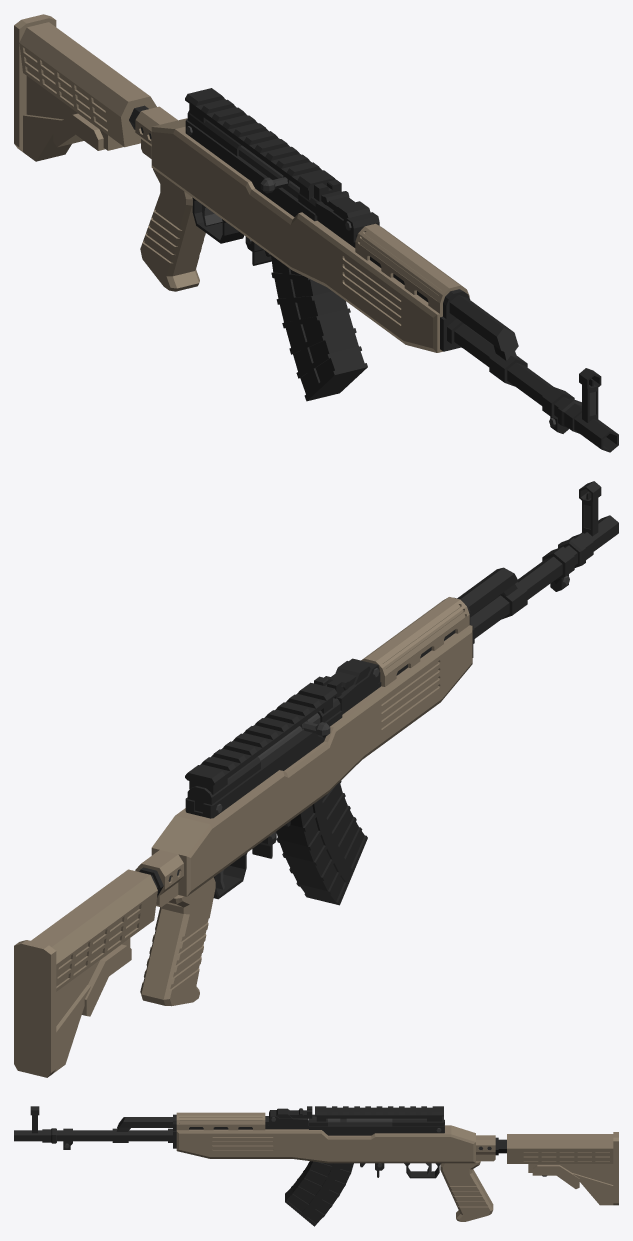
The model's file is DMR_D.fbx.
3 views of the same model, one above another, from view 1: azimuth 30°, elevation 25°; view 2: azimuth 150°, elevation 25°; view 3: azimuth 270°, elevation 25° (orthographic). The views are drawn at different scales.
Parts seen in each view (by area): view 1: DMR_D_Receiver, DMR_D_Stock, DMR_D_Mag, DMR_D_Barrel, DMR_D_Grip, DMR_D_Rail, DMR_D_Bolt; view 2: DMR_D_Receiver, DMR_D_Stock, DMR_D_Mag, DMR_D_Barrel, DMR_D_Grip, DMR_D_Rail, DMR_D_Bolt; view 3: DMR_D_Receiver, DMR_D_Stock, DMR_D_Barrel, DMR_D_Mag, DMR_D_Grip, DMR_D_Rail, DMR_D_Bolt.
Part boxes in pixels (<box>): DMR_D_Receiver: <box>129,105,470,352</box>; DMR_D_Stock: <box>14,14,156,161</box>; DMR_D_Mag: <box>271,255,367,401</box>; DMR_D_Barrel: <box>356,234,618,452</box>; DMR_D_Grip: <box>140,169,205,291</box>; DMR_D_Rail: <box>185,88,335,199</box>; DMR_D_Bolt: <box>239,145,299,198</box>; DMR_D_Receiver: <box>135,597,473,907</box>; DMR_D_Stock: <box>14,869,157,1077</box>; DMR_D_Mag: <box>276,781,367,905</box>; DMR_D_Barrel: <box>379,481,618,681</box>; DMR_D_Grip: <box>140,877,215,1006</box>; DMR_D_Rail: <box>185,682,337,794</box>; DMR_D_Bolt: <box>258,713,330,766</box>; DMR_D_Receiver: <box>173,1106,506,1178</box>; DMR_D_Stock: <box>507,1132,618,1205</box>; DMR_D_Barrel: <box>14,1106,268,1149</box>; DMR_D_Mag: <box>285,1161,353,1226</box>; DMR_D_Grip: <box>440,1161,493,1221</box>; DMR_D_Rail: <box>315,1106,443,1121</box>; DMR_D_Bolt: <box>328,1118,392,1125</box>.
Bounding box in the file's own units: 0.0715 × 0.2862 × 1.35.
